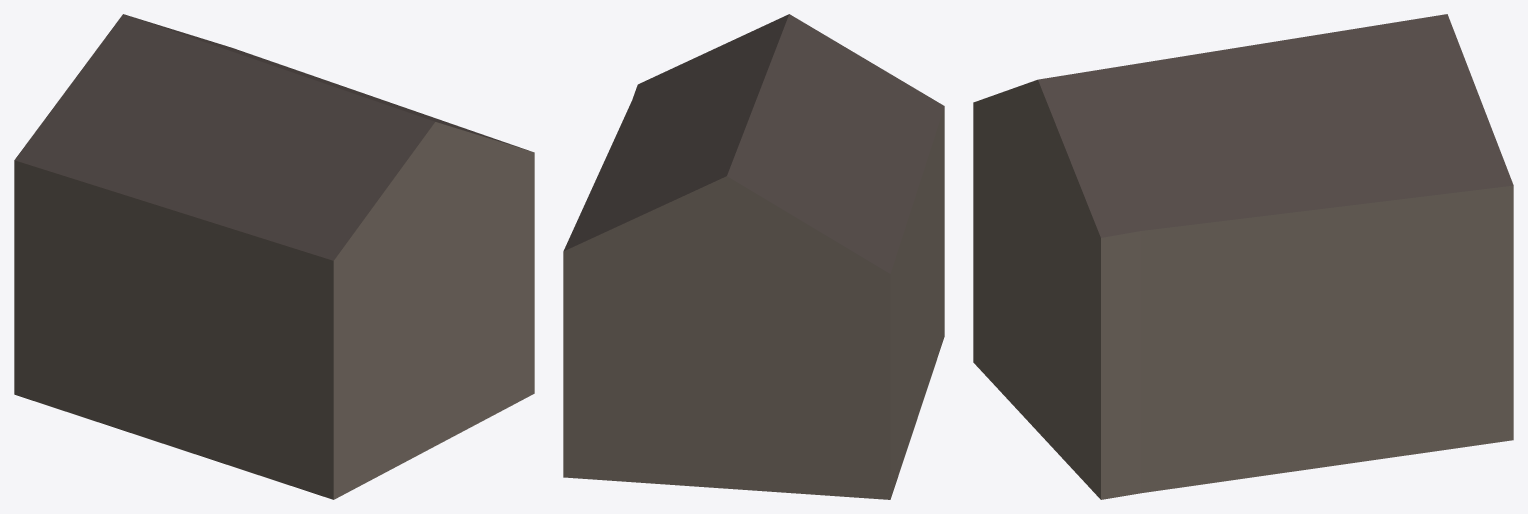
The picture shows the model from 3 angles, left to right: view 1: azimuth 30°, elevation 25°; view 2: azimuth 150°, elevation 25°; view 3: azimuth 270°, elevation 25°; orthographic projection. The views are drawn at different scales.
Visible parts, largest first — view 1: HP-w1198645086; view 2: HP-w1198645086; view 3: HP-w1198645086.
Boxes of the visible parts, box(x1,y1,x2,y2) form: HP-w1198645086: box(14, 14, 534, 499); HP-w1198645086: box(563, 14, 944, 499); HP-w1198645086: box(973, 14, 1513, 499).
Bounding box in the file's own units: 10.48 × 8.3 × 11.54.
